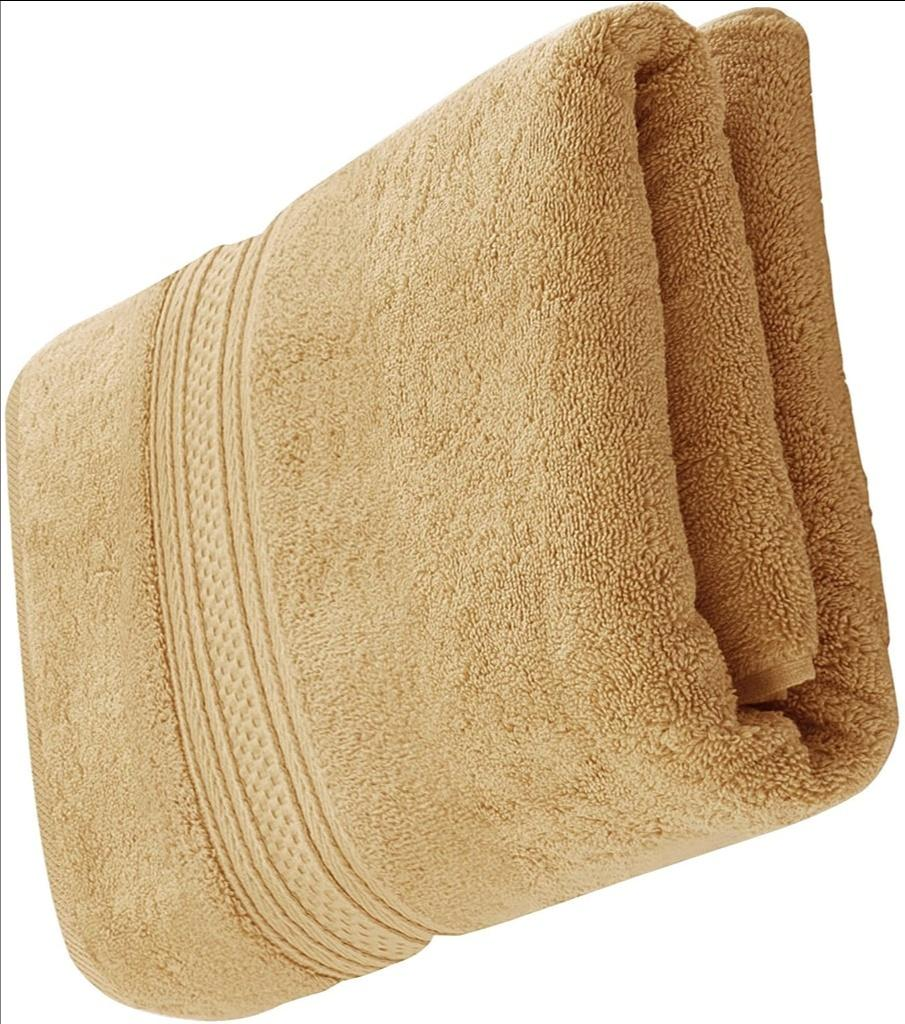Towel: (0, 2, 905, 1024)
